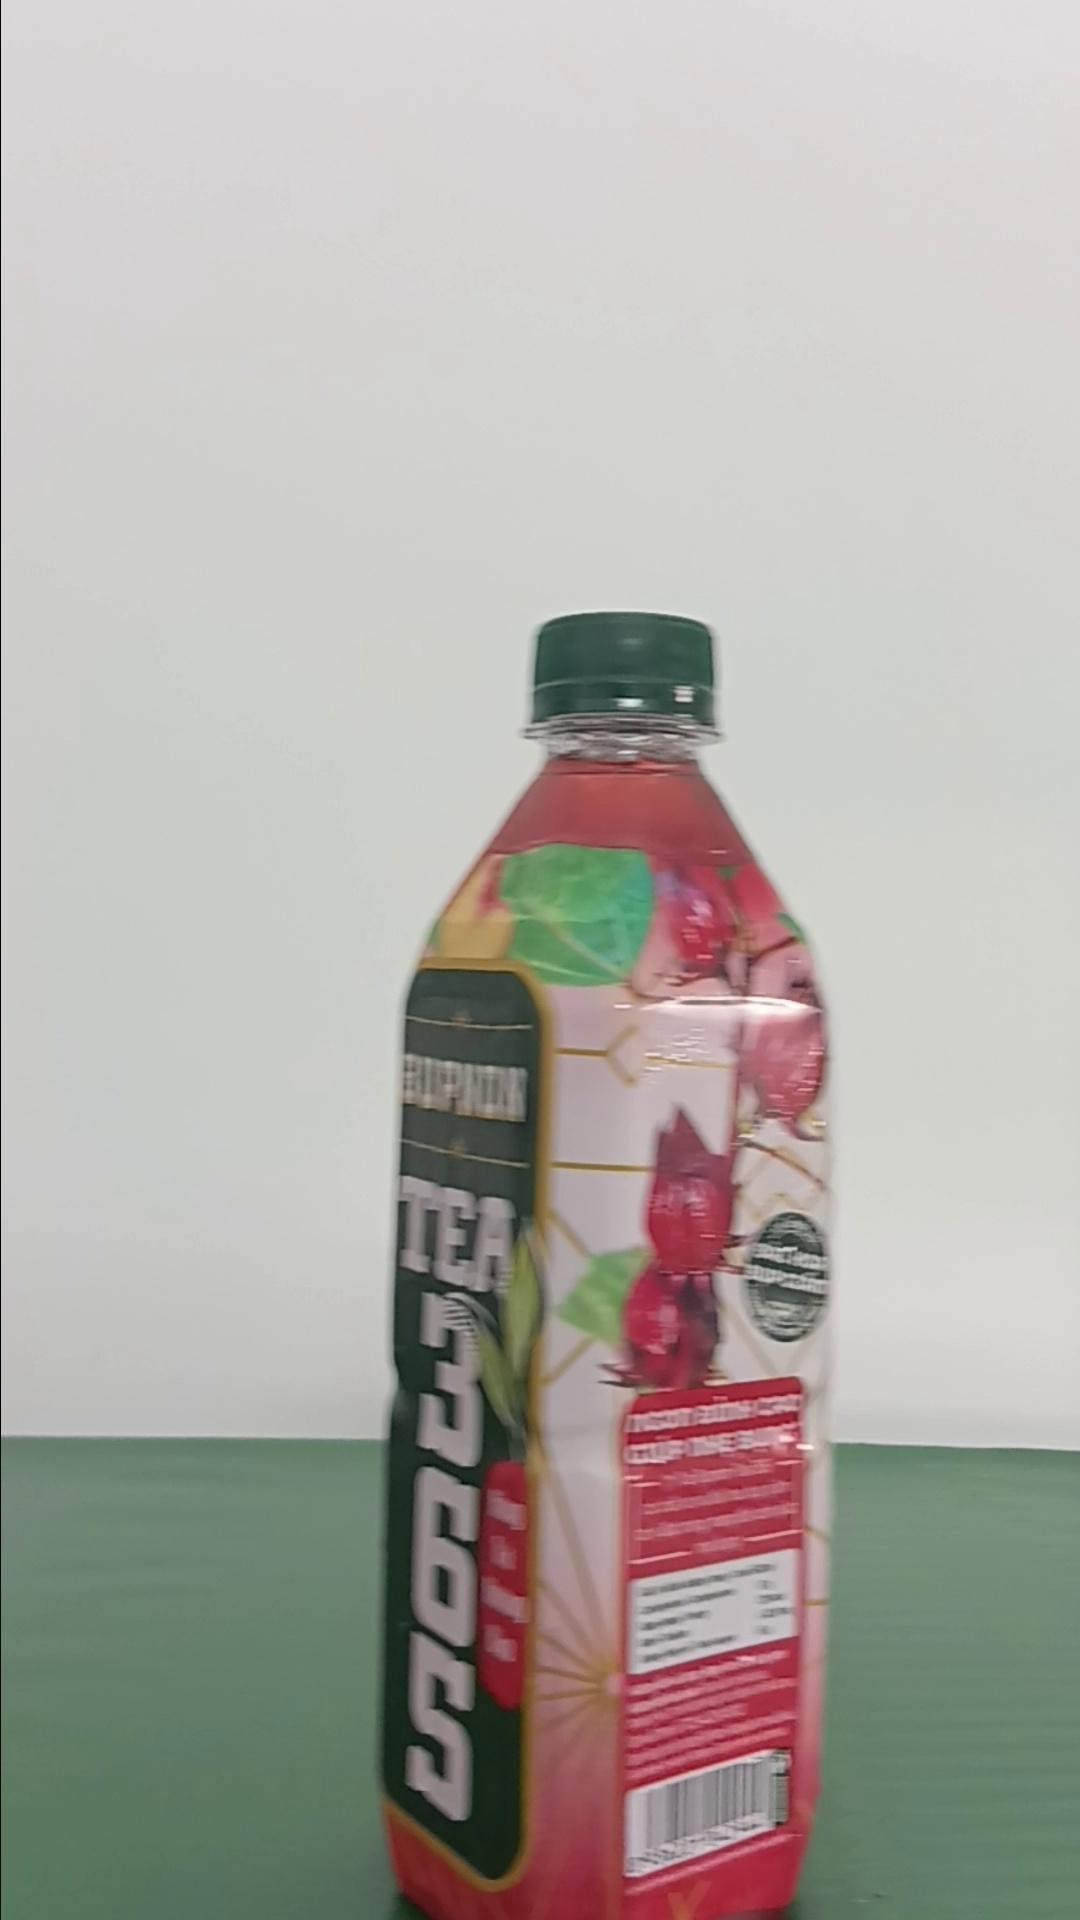khong loi: (376, 607, 840, 1916)
